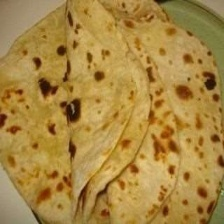roti: (0, 0, 224, 224)
